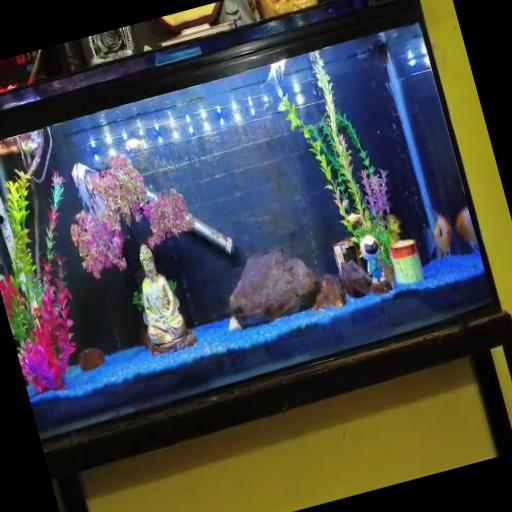Fish: (71, 162, 110, 238), (425, 208, 451, 260), (455, 207, 478, 251), (263, 59, 285, 98), (124, 139, 142, 151), (346, 213, 361, 225)
